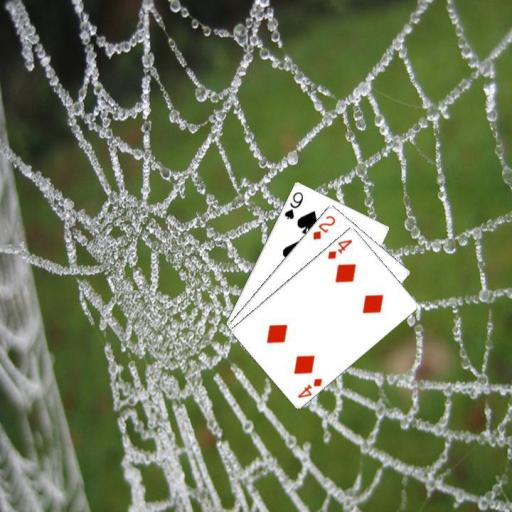2D: (309, 212, 337, 241)
4D: (295, 375, 324, 400), (324, 236, 354, 260)
9S: (281, 189, 304, 221)
